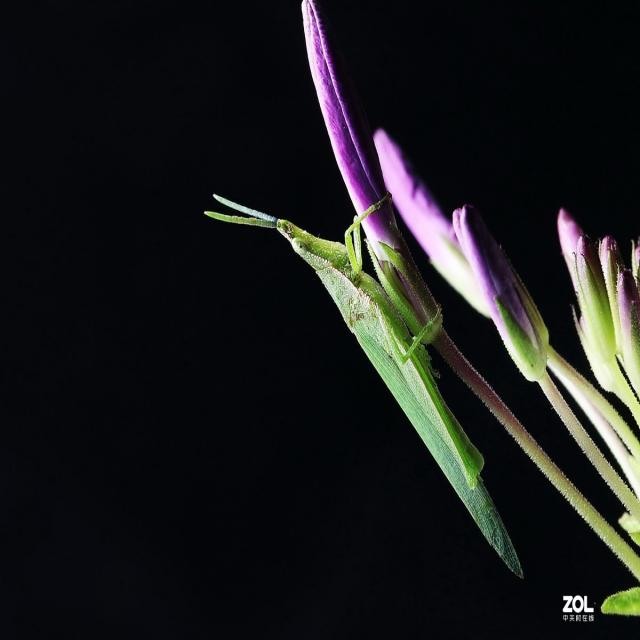ZhaMeng: (178, 165, 539, 590)
